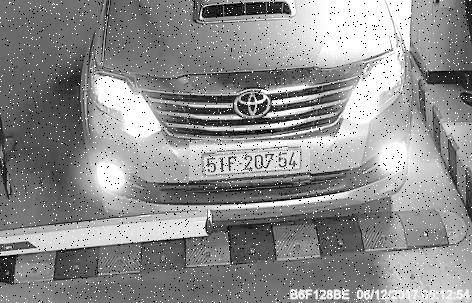License-plate: (191, 142, 313, 186)
